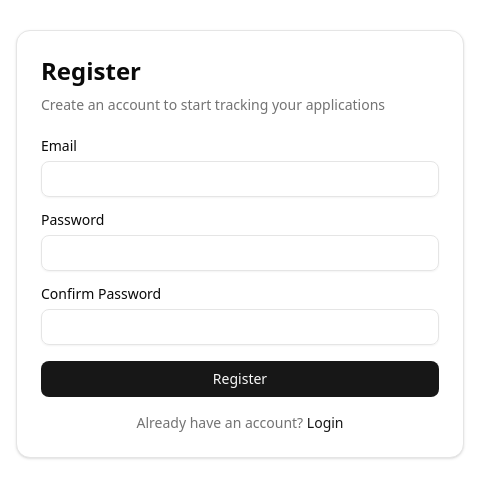
Test: RegisterPage › shows error when passwords do not match
Type "test@example.com" into the field labelled "Email" at {"x": 240, "y": 179}, box [41, 161, 439, 197]
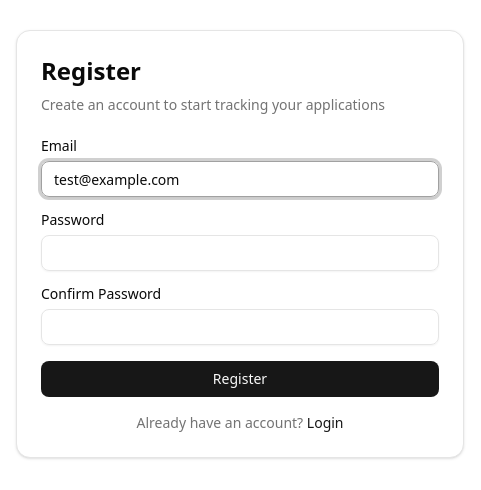
Type "password123" into the password field labelled "Password" at {"x": 240, "y": 253}, box [41, 235, 439, 271]
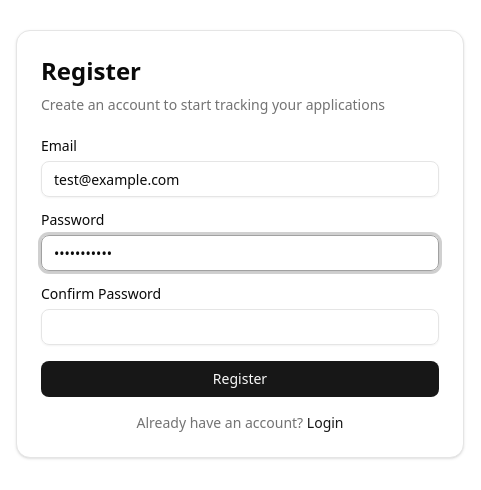
Type "different" into the password field labelled "Confirm Password" at {"x": 240, "y": 327}, box [41, 309, 439, 345]
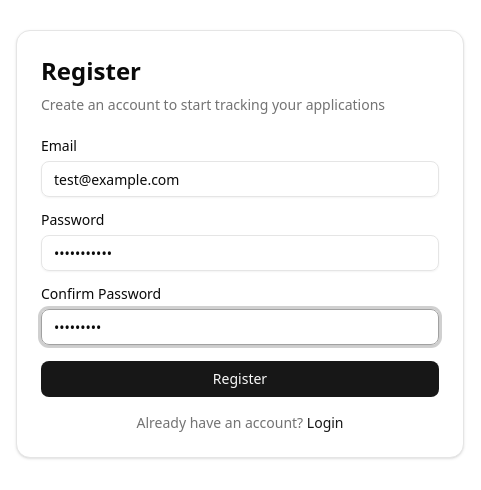
Click the button "Register" at {"x": 240, "y": 379}, box [41, 361, 439, 397]
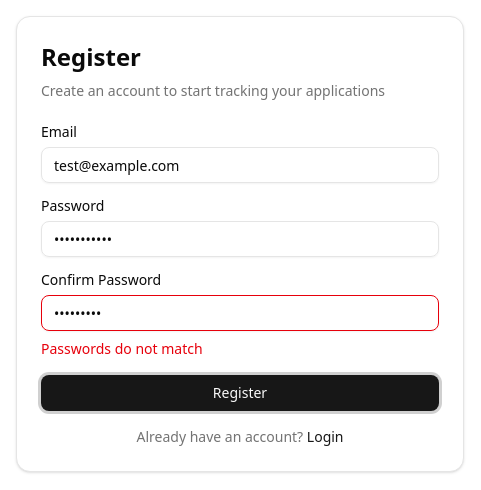
Expected: the text "Passwords do not match" is shown, [41, 339, 203, 358]
